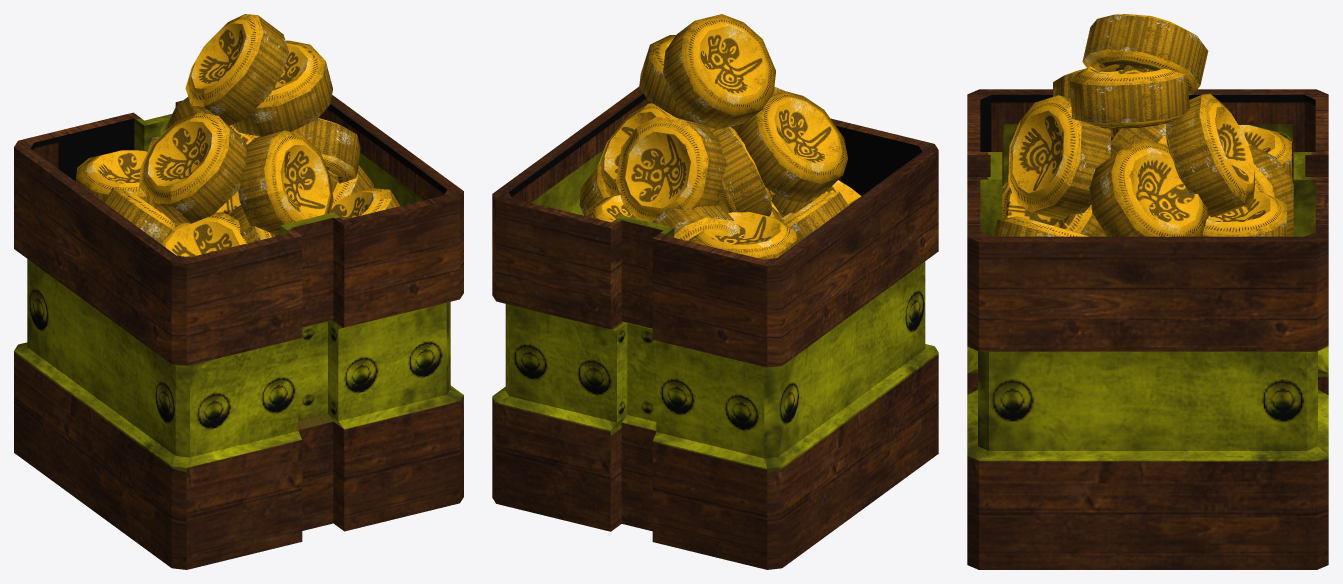
The model's file is Full_Chest.fbx.
3 views of the same model, side by side, from view 1: azimuth 30°, elevation 25°; view 2: azimuth 150°, elevation 25°; view 3: azimuth 270°, elevation 25° (orthographic). The views are drawn at different scales.
Parts seen in each view (by area): view 1: FullChest; view 2: FullChest; view 3: FullChest.
Part boxes in pixels (left/top/right/bottom): FullChest: left=14, top=14, right=463, bottom=569; FullChest: left=492, top=14, right=938, bottom=569; FullChest: left=967, top=14, right=1328, bottom=569.
Size of the model in its own units: 100 by 149 by 100.
